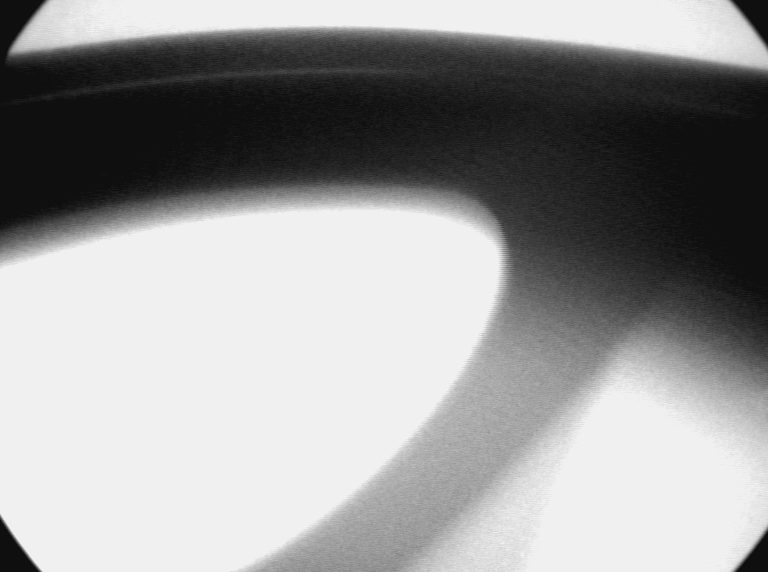defect: (751, 389, 768, 421)
